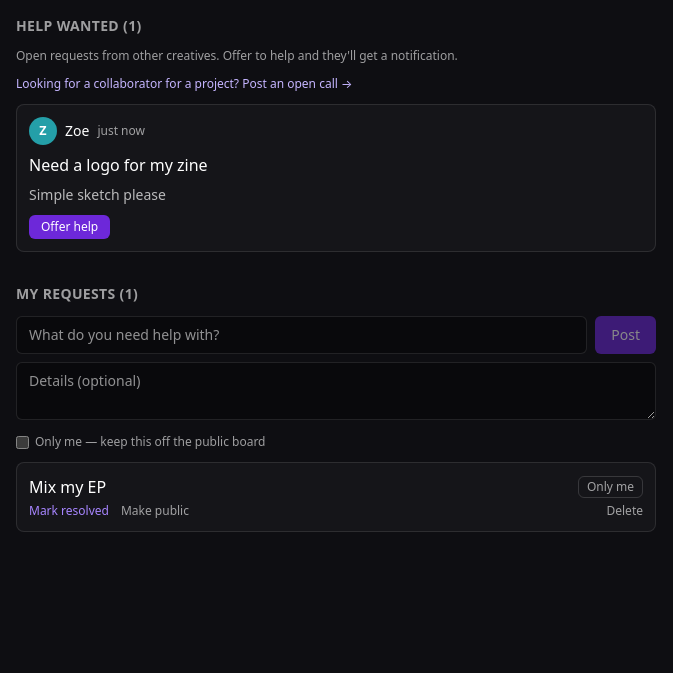
TasksPage (Help wanted) › surfaces the rate-limit message when an offer is refused
The image size is (673, 673).
Step 1. Click the button "Offer help" → point(70, 227), box [29,215,110,239]
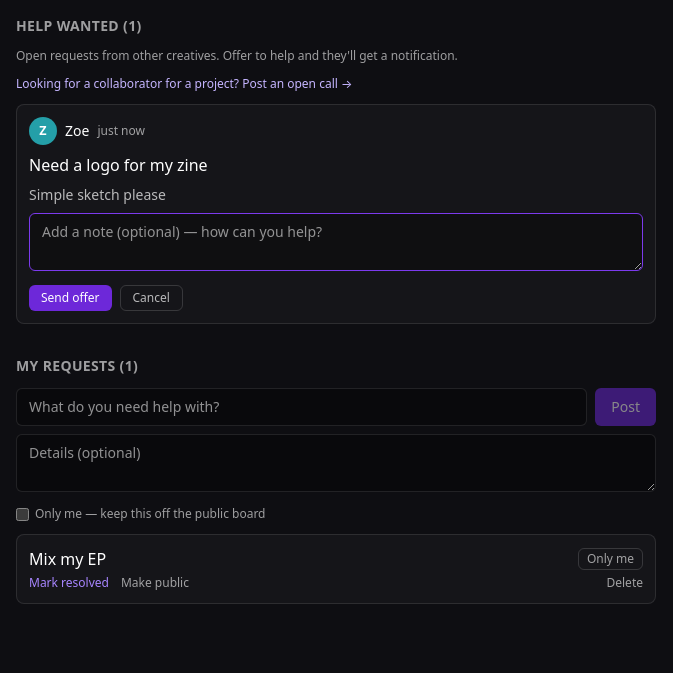
Step 2. Click the button "Send offer" → point(70, 298), box [29,285,112,311]
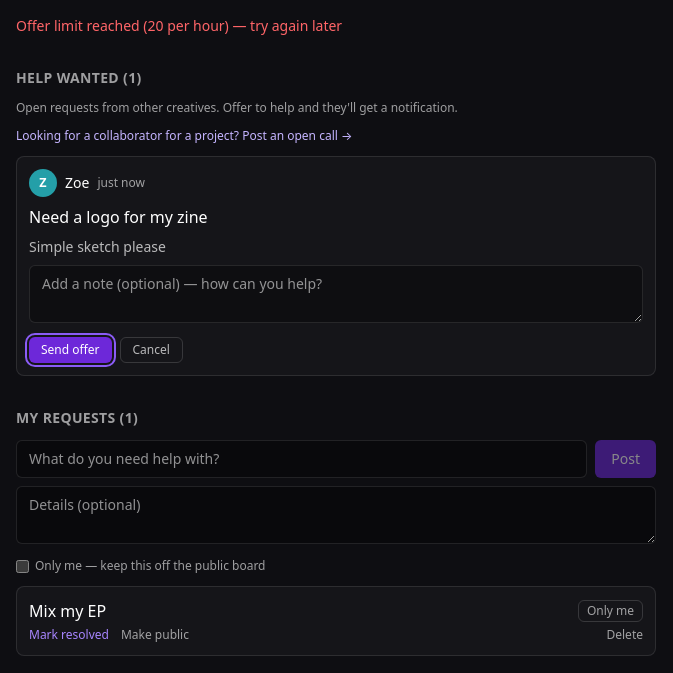
Result: the button "Send offer" is enabled at [29,337,112,363]
Result: the text "Offer limit reached (20 per hour) — try again later" is shown at [16,16,342,35]
